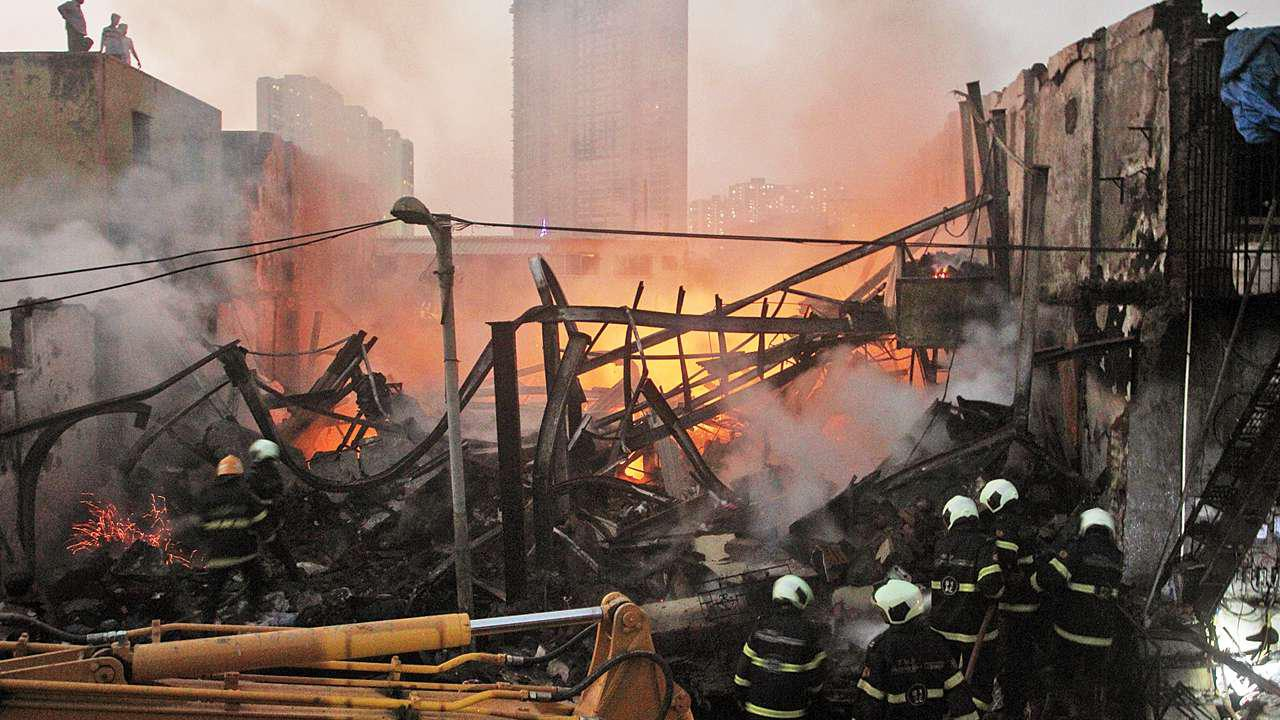fire: (542, 260, 879, 384)
